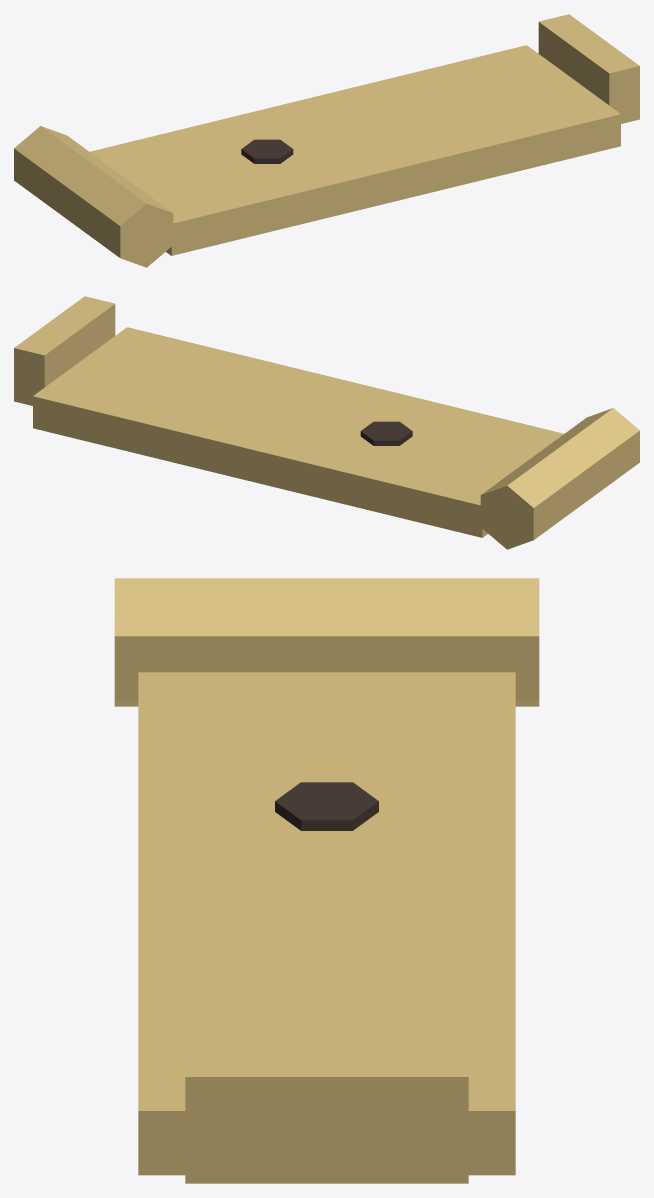
Rendered from prop-book-clasp-blank.fbx.
3 views of the same model, one above another, from view 1: azimuth 30°, elevation 25°; view 2: azimuth 150°, elevation 25°; view 3: azimuth 270°, elevation 25° (orthographic). The views are drawn at different scales.
Visible parts, largest first — view 1: prop-book-clasp-blank; view 2: prop-book-clasp-blank; view 3: prop-book-clasp-blank.
Boxes of the visible parts, x1,y1,x2,y2 form: prop-book-clasp-blank: (14,14,639,267); prop-book-clasp-blank: (14,296,639,549); prop-book-clasp-blank: (114,578,539,1183).
Bounding box in the file's own units: 5.26 × 0.6 × 1.8.
